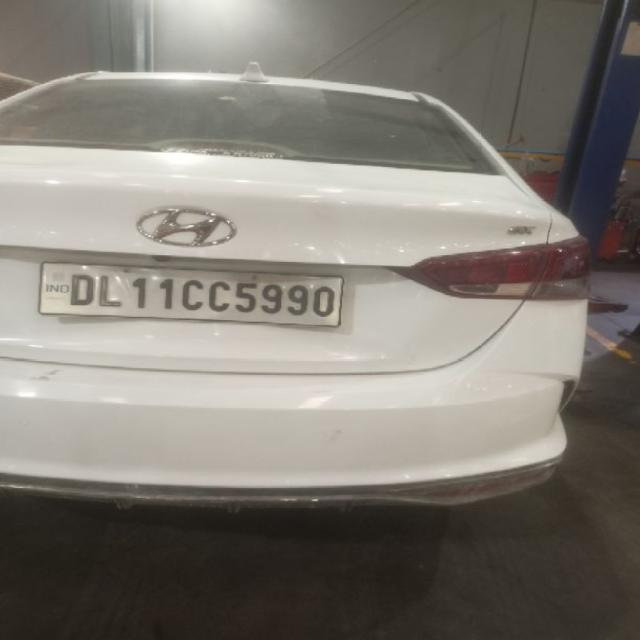license_plate: (37, 260, 344, 327)
